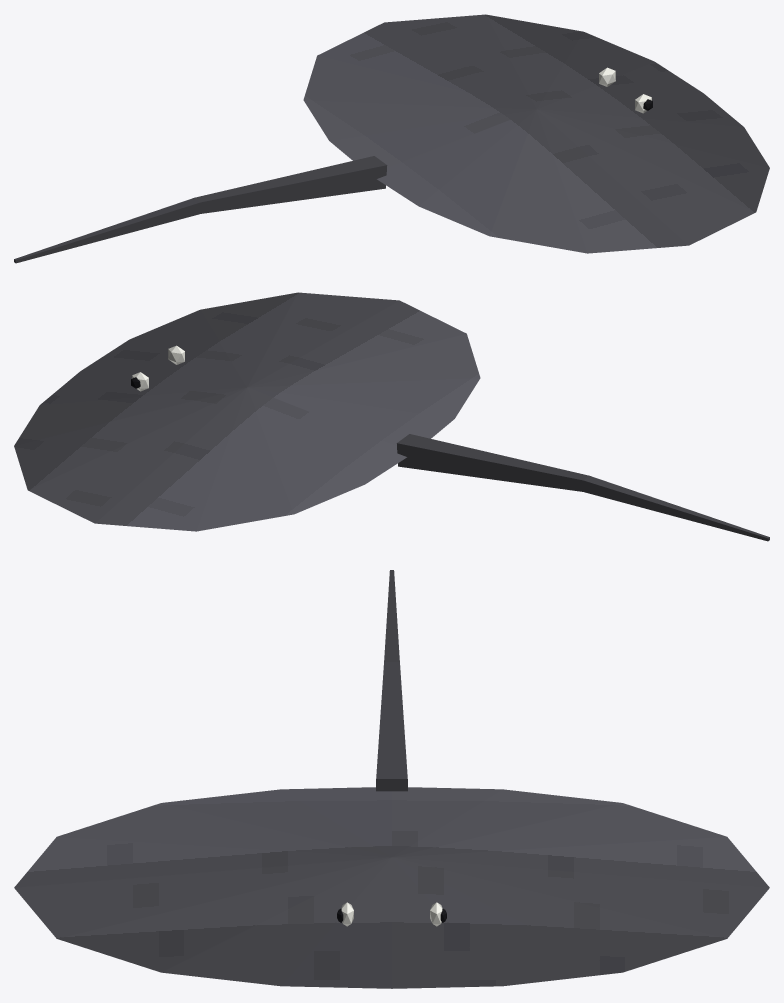
The model's file is smooth_stingray.glb.
3 views of the same model, one above another, from view 1: azimuth 30°, elevation 25°; view 2: azimuth 150°, elevation 25°; view 3: azimuth 270°, elevation 25° (orthographic). The views are drawn at different scales.
Visible parts, largest first — view 1: fish_smooth_stingray; view 2: fish_smooth_stingray; view 3: fish_smooth_stingray.
Part boxes in pixels (box(x1,y1,x2,y2)): fish_smooth_stingray: box(14, 14, 769, 263); fish_smooth_stingray: box(14, 292, 769, 541); fish_smooth_stingray: box(14, 570, 769, 988).
Bounding box in the file's own units: 1.32 × 0.0792 × 1.01.
Materials: 4 (1 with a texture image).
